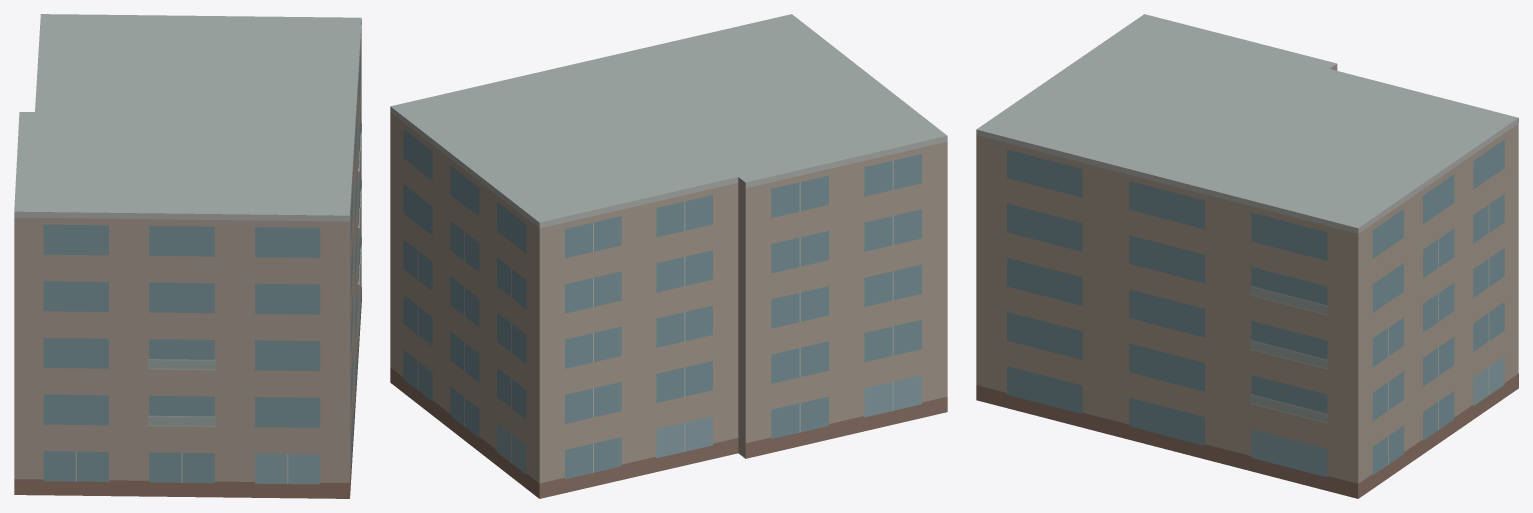
The model's file is survey-upis-33022887.glb.
3 views of the same model, side by side, from view 1: azimuth 30°, elevation 25°; view 2: azimuth 150°, elevation 25°; view 3: azimuth 270°, elevation 25° (orthographic). The views are drawn at different scales.
Visible parts, largest first — view 1: survey-upis-33022887.tmp; view 2: survey-upis-33022887.tmp; view 3: survey-upis-33022887.tmp.
Boxes of the visible parts, bbox=[...] form: survey-upis-33022887.tmp: bbox=[14, 14, 361, 498]; survey-upis-33022887.tmp: bbox=[390, 14, 947, 498]; survey-upis-33022887.tmp: bbox=[976, 14, 1518, 498].
Size of the model in its own units: 19.87 by 11.7 by 21.26.
